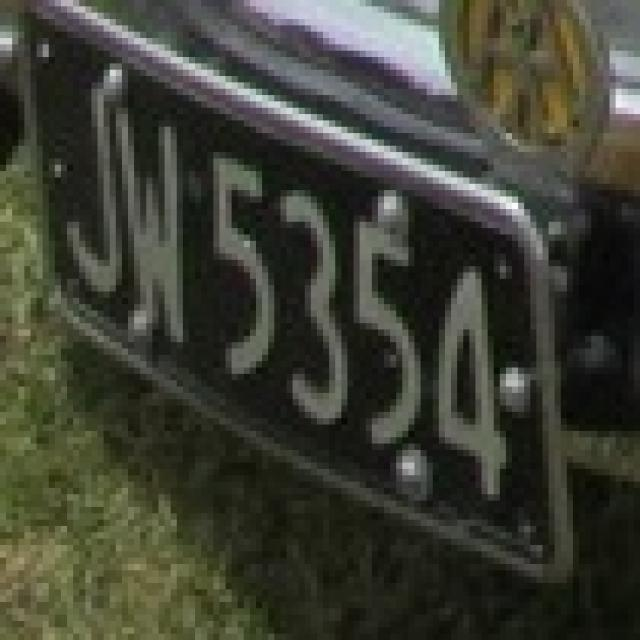LicensePlate: (24, 0, 572, 581)
